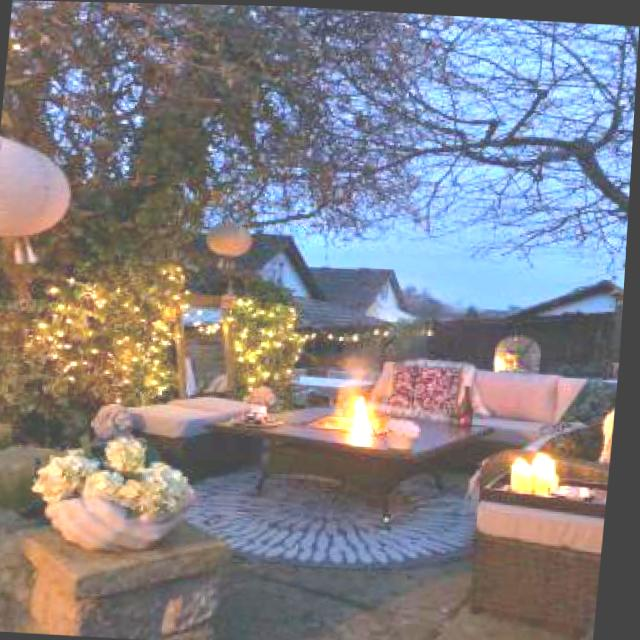helmet: (334, 384, 398, 445)
